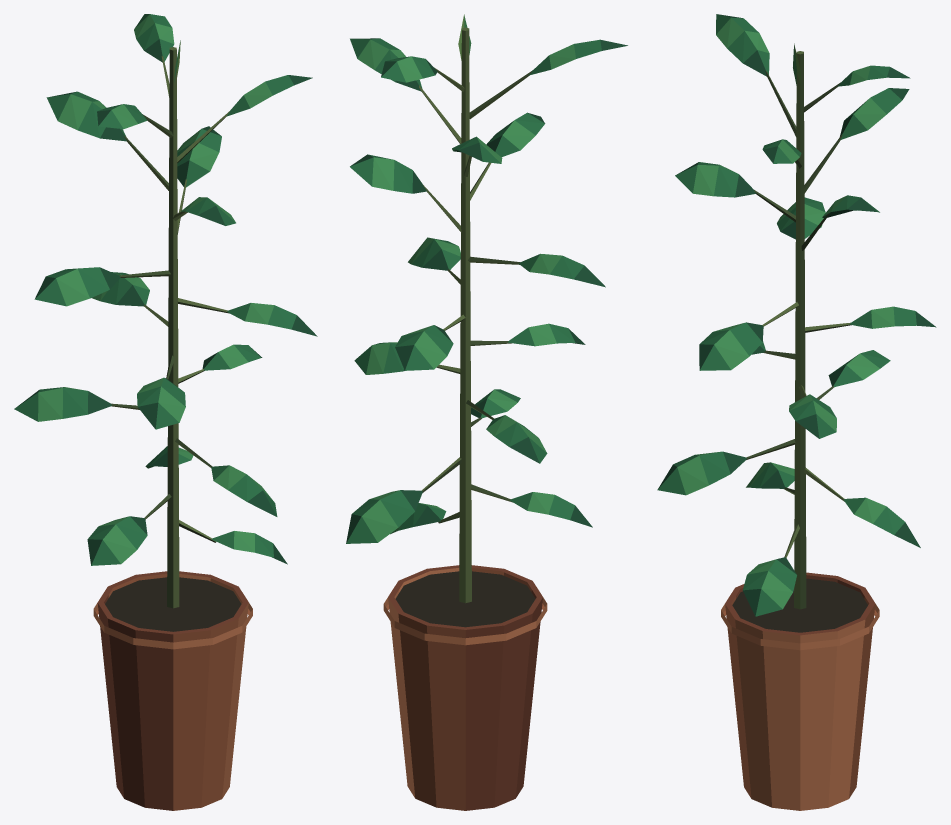
Rendered from plant.glb.
3 renders of one model, left to right at view 1: azimuth 30°, elevation 25°; view 2: azimuth 150°, elevation 25°; view 3: azimuth 270°, elevation 25°, orthographic. The views are drawn at different scales.
Size of the model in its own units: 0.4799 by 1.3 by 0.4414.
1 material, 1 textured.
